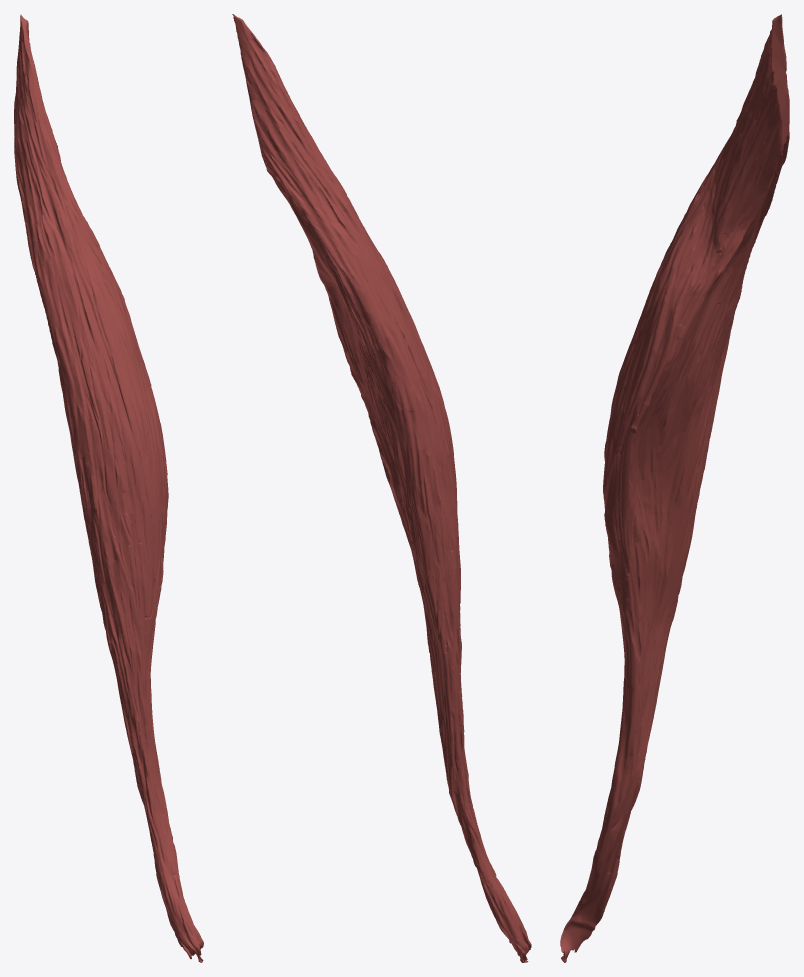
File: FMA38486.glb
3 renders of one model, left to right at view 1: azimuth 90°, elevation 25°; view 2: azimuth 150°, elevation 25°; view 3: azimuth 270°, elevation 25°, orthographic. The views are drawn at different scales.
Parts seen in each view (by area): view 1: FMA38486; view 2: FMA38486; view 3: FMA38486.
Boxes of the visible parts, bbox=[...] form: FMA38486: bbox=[14, 14, 203, 962]; FMA38486: bbox=[232, 14, 531, 962]; FMA38486: bbox=[560, 14, 789, 962].
Bounding box in the file's own units: 0.0724 × 0.3379 × 0.0672.
